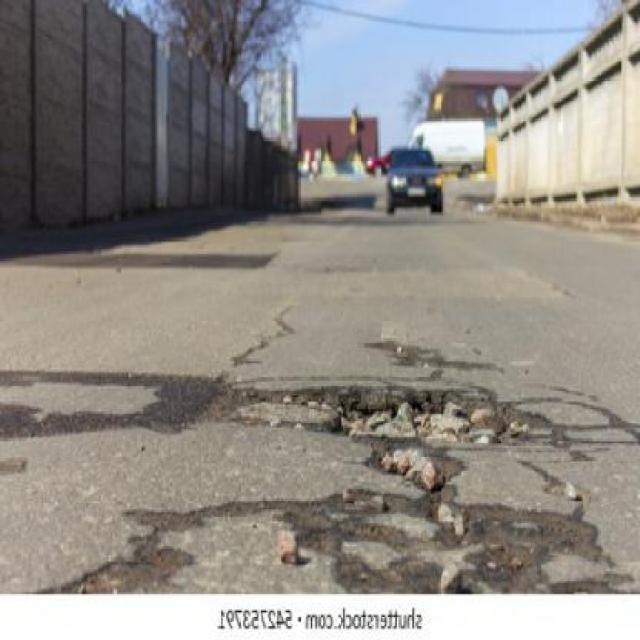Pothole: (244, 381, 572, 456)
